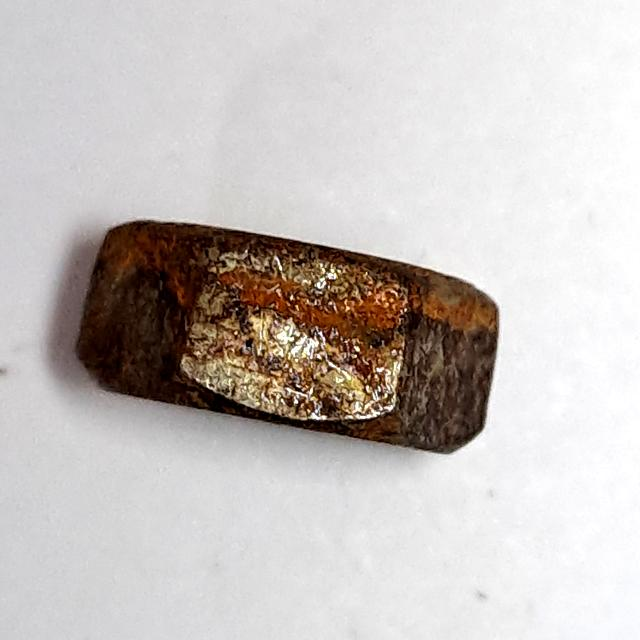Side_Rust: (55, 209, 514, 472)
